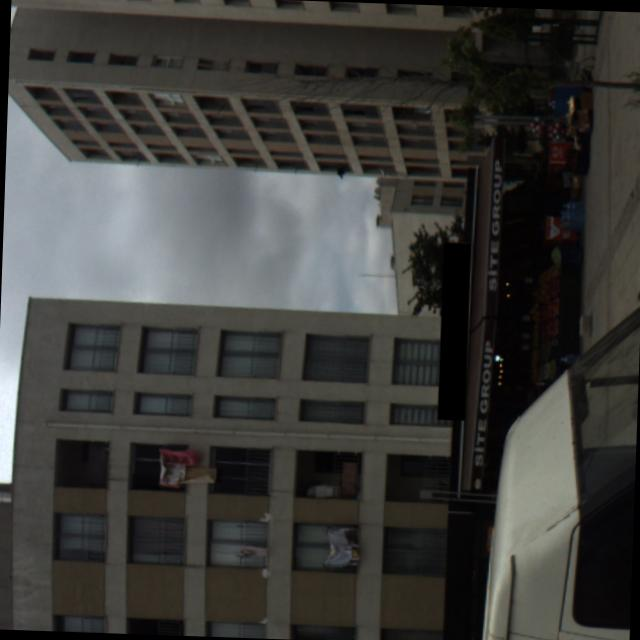SignStore: (438, 242, 471, 419)
